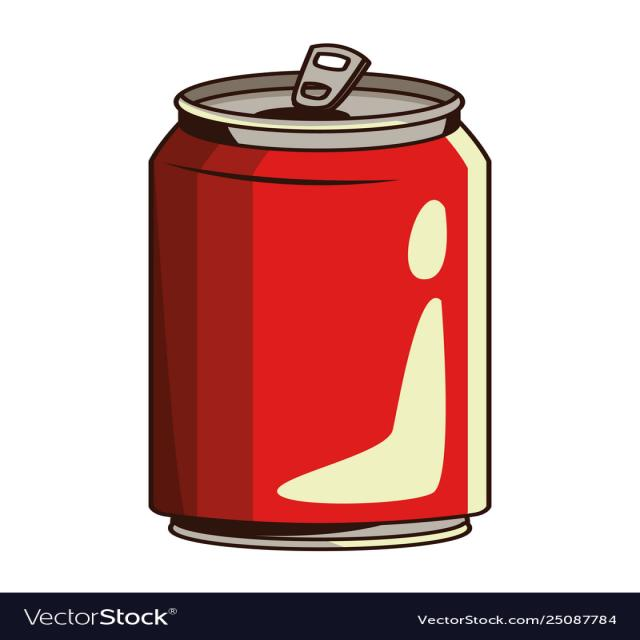can: (144, 75, 489, 557)
